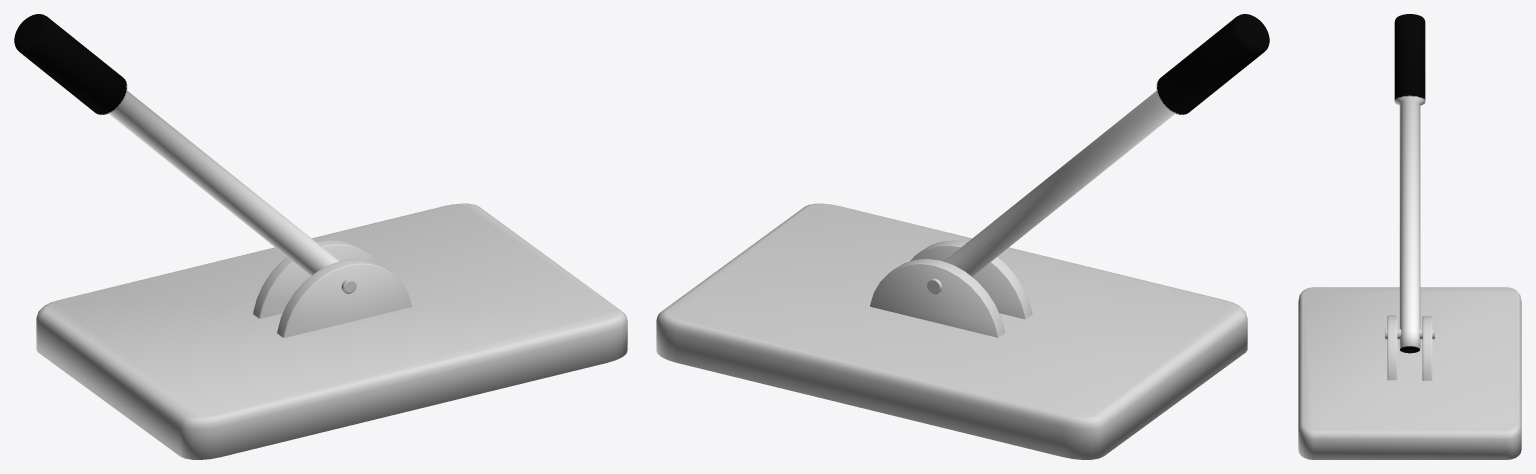
File: lever.glb
3 views of the same model, side by side, from view 1: azimuth 30°, elevation 25°; view 2: azimuth 150°, elevation 25°; view 3: azimuth 270°, elevation 25° (orthographic). The views are drawn at different scales.
Parts seen in each view (by area): view 1: Base, Alavanca, Circle, Circle.001; view 2: Base, Alavanca, Circle.001, Circle; view 3: Base, Alavanca, Circle, Circle.001.
Boxes of the visible parts, <box> form: Base: <box>36,203,627,459</box>; Alavanca: <box>14,14,339,275</box>; Circle: <box>277,259,412,337</box>; Circle.001: <box>253,240,377,318</box>; Base: <box>656,203,1247,459</box>; Alavanca: <box>944,14,1269,276</box>; Circle.001: <box>870,259,1004,337</box>; Circle: <box>910,240,1032,319</box>; Base: <box>1298,287,1521,459</box>; Alavanca: <box>1394,14,1425,353</box>; Circle: <box>1387,315,1397,380</box>; Circle.001: <box>1422,316,1432,380</box>.
Size of the model in its own units: 2.41 by 1.74 by 1.27.
2 materials, 1 textured.
